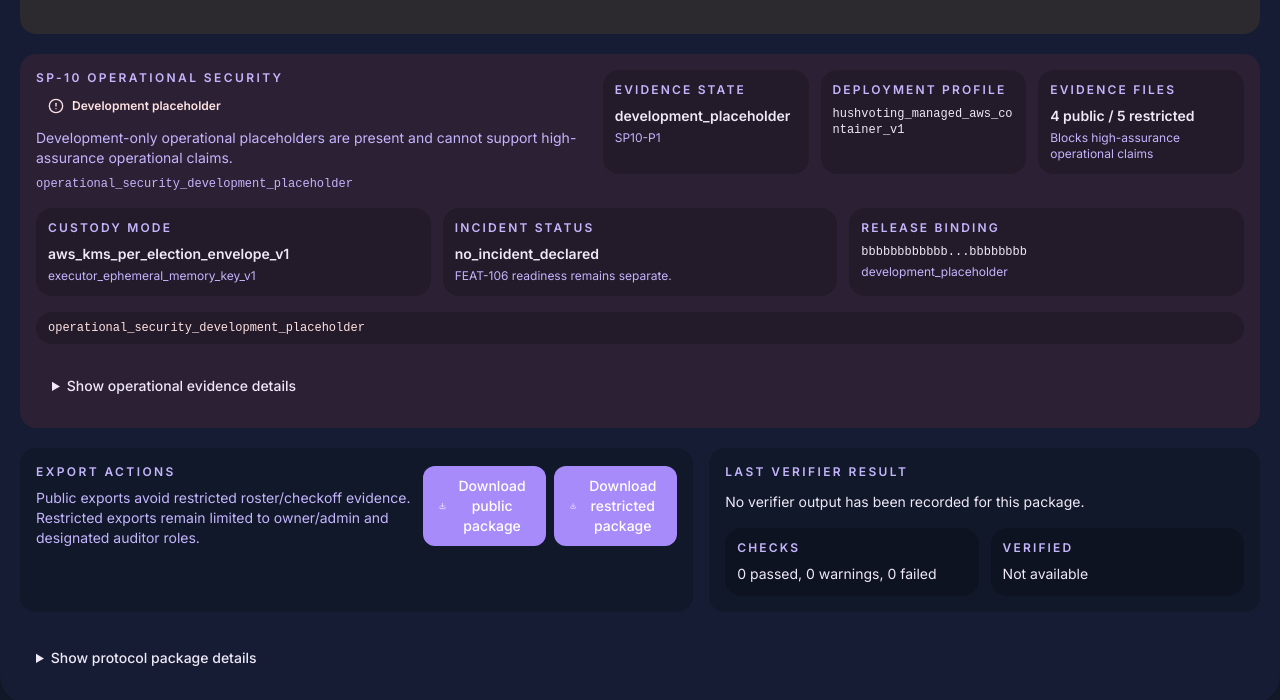
VerificationPackageStatusSection › renders SP-10 operational security evidence with OPS result details
(page scrolled)
Check: the element with test id "verification-package-sp10-operational-security" shows "SP-10 operational security", box [36,70,284,85]
Check: the element with test id "verification-package-sp10-operational-security" shows "Development placeholder", box [72,98,221,113]
Click the heading "Show operational evidence details". click: click(181, 386)
box: [67,377,296,394]
(page scrolled)
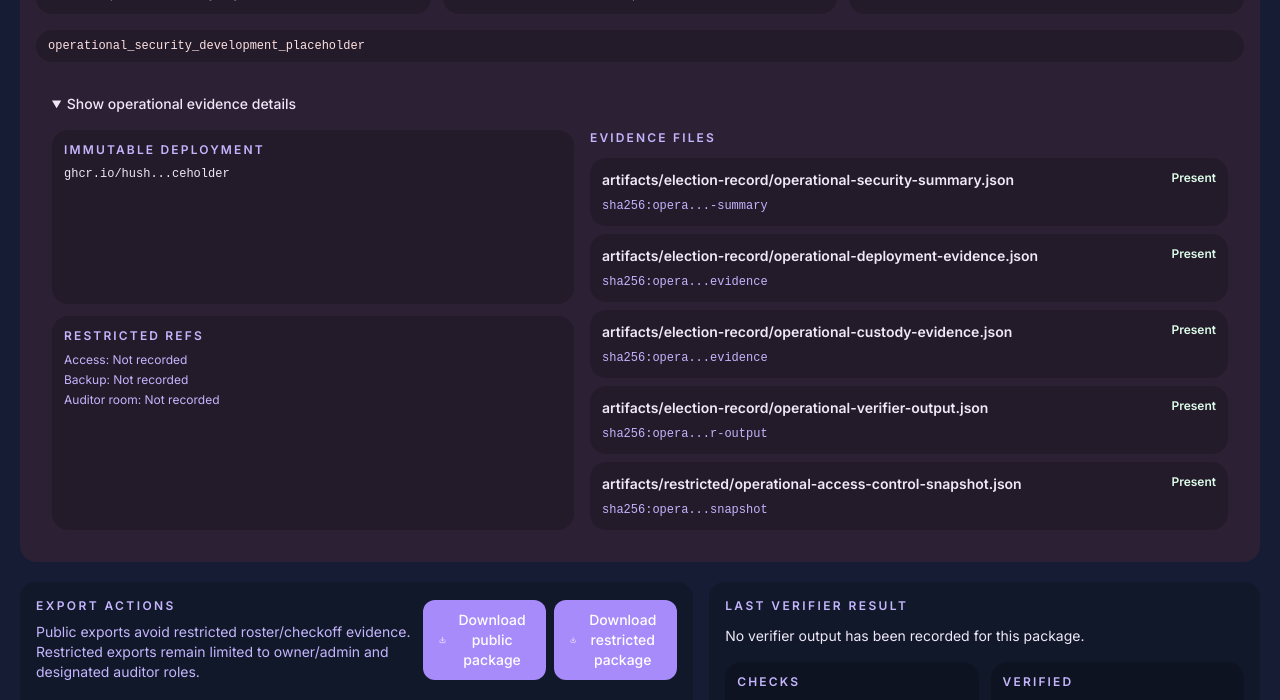
Check: the element with test id "verification-package-sp10-files" shows "operational-security-summary.json", box [602,171,1014,188]
Check: the element with test id "verification-package-sp10-files" shows "operational-access-control-snapshot.json", box [602,475,1022,492]
